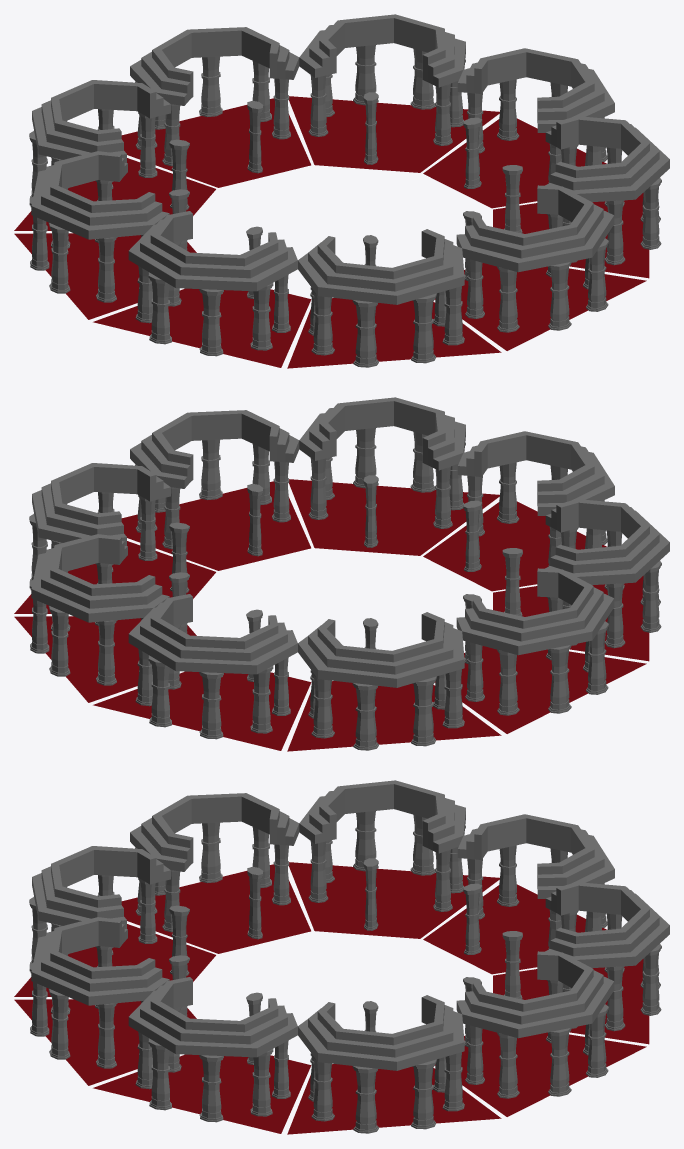
File: Collosseum8.fbx
The picture shows the model from 3 angles, top to bottom: view 1: azimuth 30°, elevation 25°; view 2: azimuth 150°, elevation 25°; view 3: azimuth 270°, elevation 25°; orthographic projection.
Parts seen in each view (by area): view 1: Collosseum_Ground; view 2: Collosseum_Ground; view 3: Collosseum_Ground.
Part boxes in pixels (x1,y1,x2,y2): Collosseum_Ground: (14,14,669,368); Collosseum_Ground: (14,397,669,751); Collosseum_Ground: (14,780,669,1134).
Bounding box in the file's own units: 6661 × 1014 × 6742.
